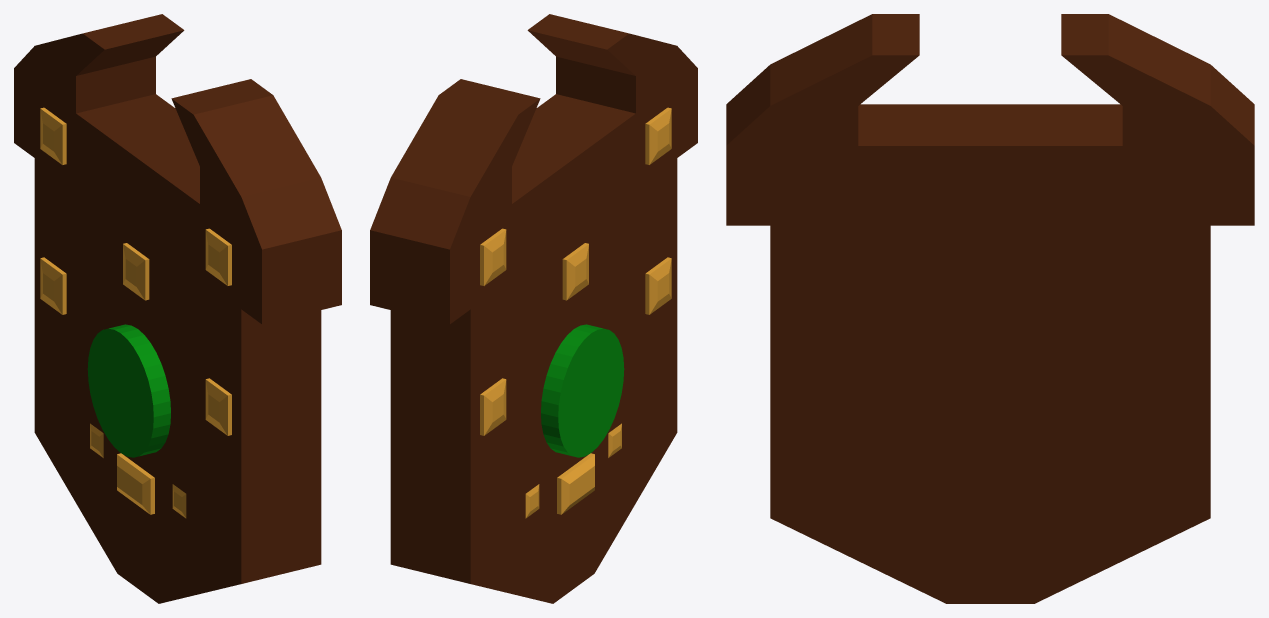
File: Trophy 1.fbx
3 views of the same model, side by side, from view 1: azimuth 30°, elevation 25°; view 2: azimuth 150°, elevation 25°; view 3: azimuth 270°, elevation 25° (orthographic). The views are drawn at different scales.
Parts seen in each view (by area): view 1: Trophy 1; view 2: Trophy 1; view 3: Trophy 1.
Part boxes in pixels (x1,y1,x2,y2): Trophy 1: (14, 14, 341, 603); Trophy 1: (370, 14, 697, 603); Trophy 1: (726, 14, 1254, 603).
Bounding box in the file's own units: 54.26 × 275 × 240.
